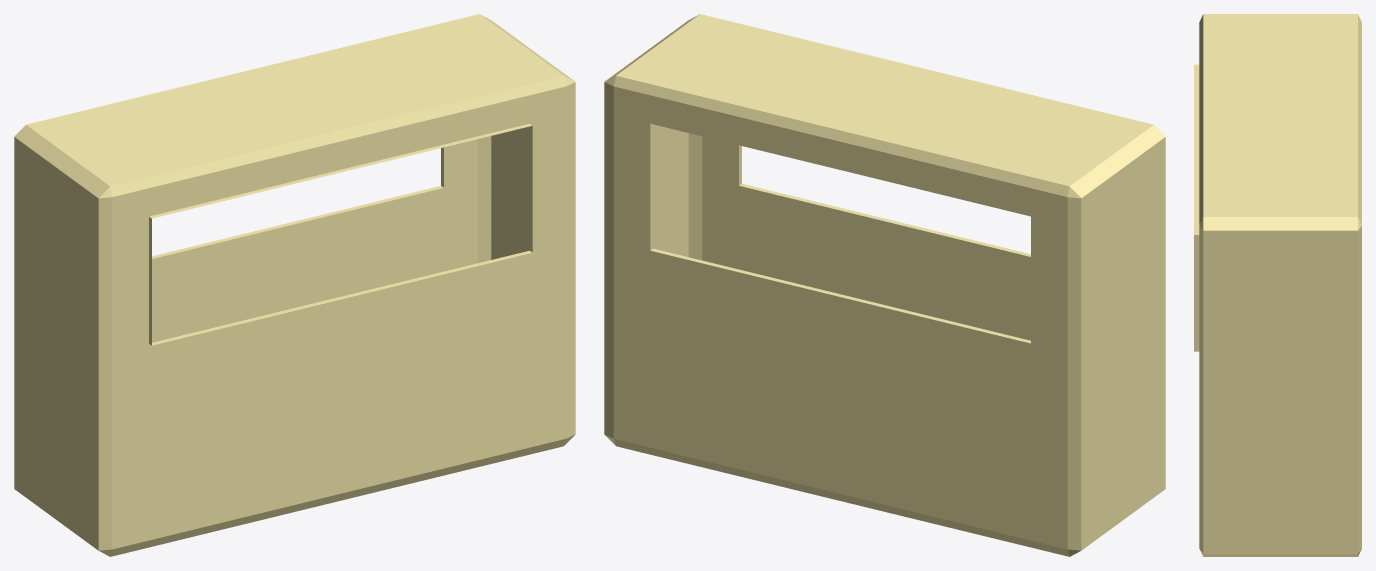
The model's file is SM_house_12.fbx.
3 renders of one model, left to right at view 1: azimuth 30°, elevation 25°; view 2: azimuth 150°, elevation 25°; view 3: azimuth 270°, elevation 25°, orthographic. The views are drawn at different scales.
Visible parts, largest first — view 1: SM_house_10; view 2: SM_house_10; view 3: SM_house_10.
Part boxes in pixels (box(x1,y1,x2,y2)): SM_house_10: box(14, 14, 575, 556); SM_house_10: box(604, 14, 1165, 556); SM_house_10: box(1194, 14, 1361, 556).
Size of the model in its own units: 905 by 2725 by 2022.
